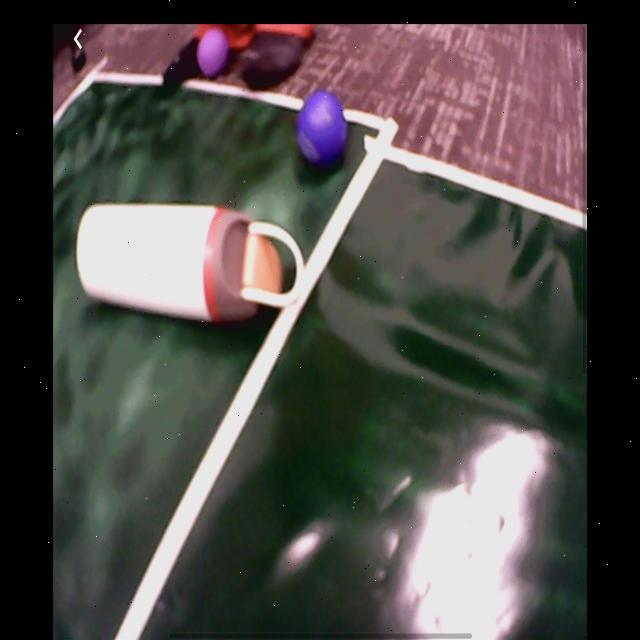ball: (299, 90, 347, 171), (200, 31, 228, 81)
